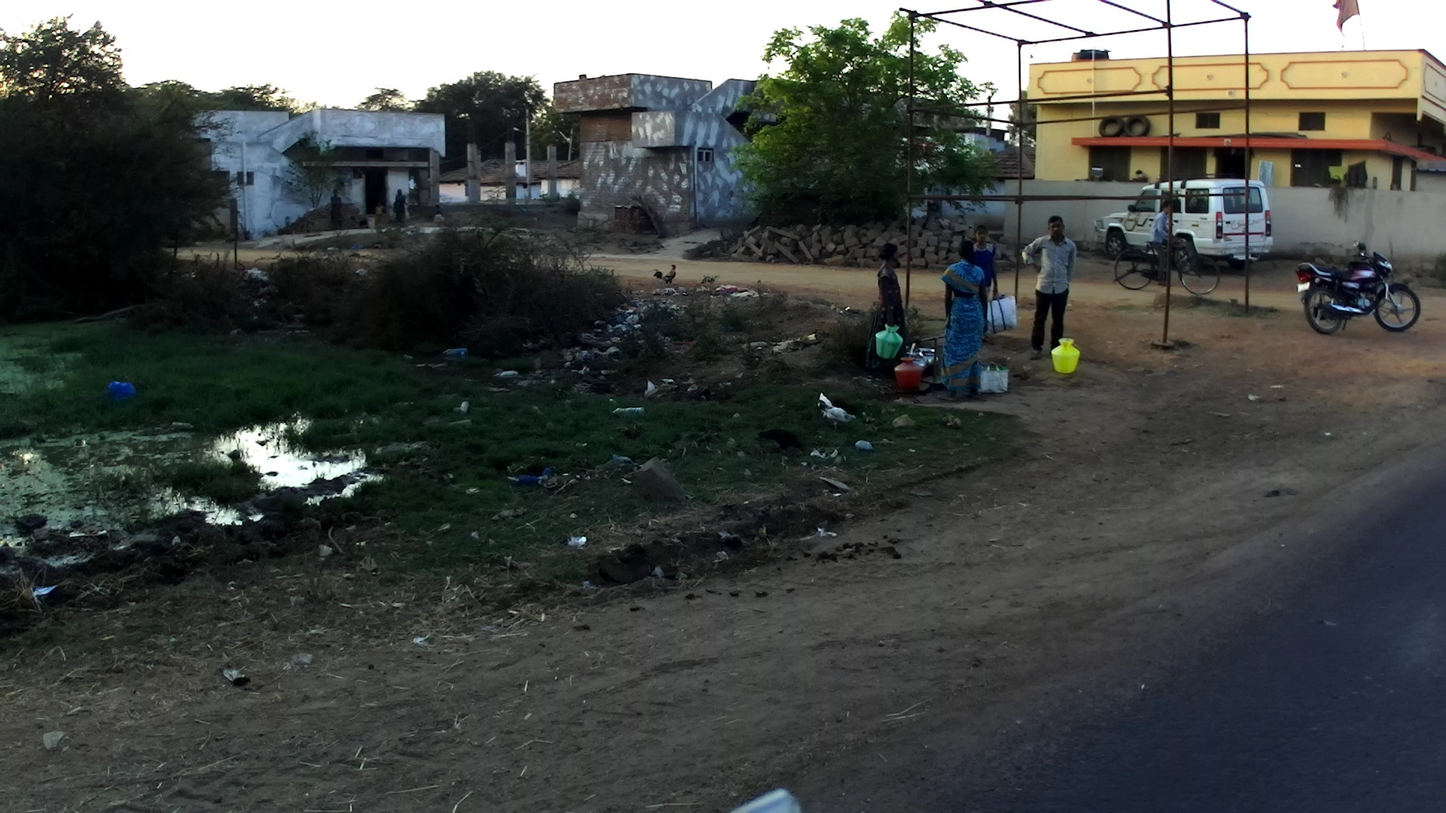animal: (651, 263, 679, 287)
bicycle: (1112, 234, 1221, 298)
car: (1094, 175, 1274, 273), (1021, 215, 1078, 361), (969, 224, 999, 345)
motorcycle: (1293, 240, 1422, 335)
person: (937, 239, 990, 403), (866, 241, 908, 379), (329, 188, 343, 232), (394, 189, 410, 224), (374, 202, 385, 223), (432, 211, 445, 225)
rider: (1150, 200, 1177, 287)
